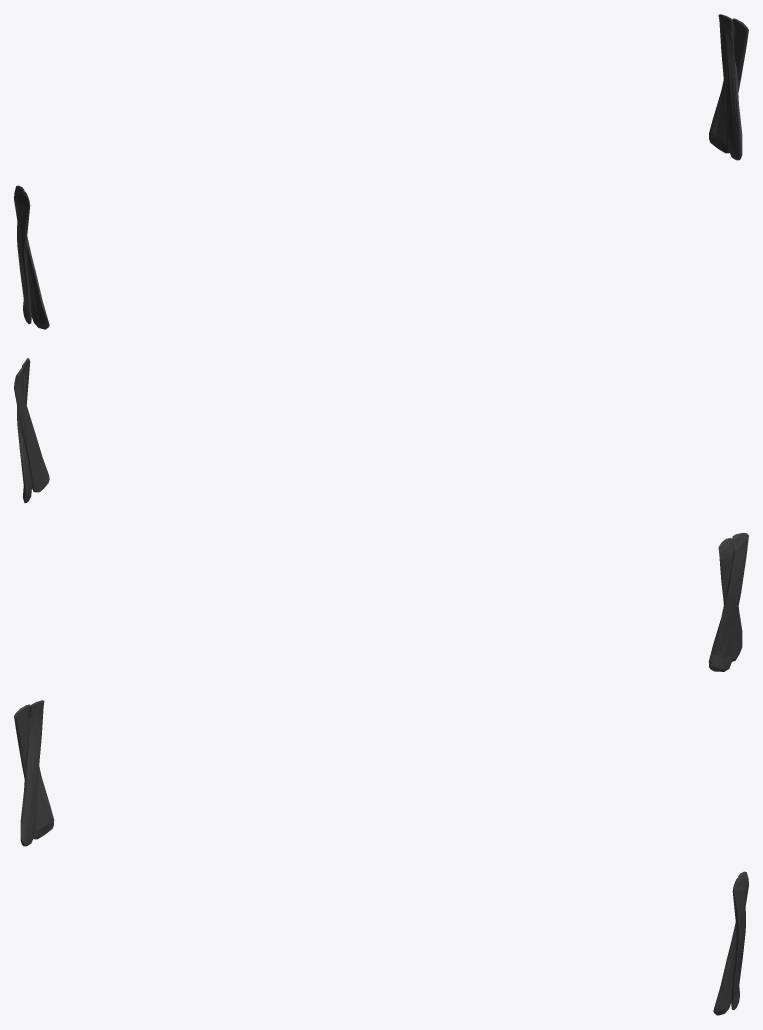
File: lig_lat_collateral_elbow.glb
The picture shows the model from 3 angles, top to bottom: view 1: azimuth 30°, elevation 25°; view 2: azimuth 150°, elevation 25°; view 3: azimuth 330°, elevation 25°; orthographic projection.
Visible parts, largest first — view 1: lig_lat_collateral_elbow; view 2: lig_lat_collateral_elbow; view 3: lig_lat_collateral_elbow.
Part boxes in pixels (<box>): lig_lat_collateral_elbow: <box>14,14,748,329</box>; lig_lat_collateral_elbow: <box>14,358,748,671</box>; lig_lat_collateral_elbow: <box>14,700,748,1015</box>.
Size of the model in its own units: 0.00617 by 0.00111 by 0.000419.
1 material, 1 textured.
